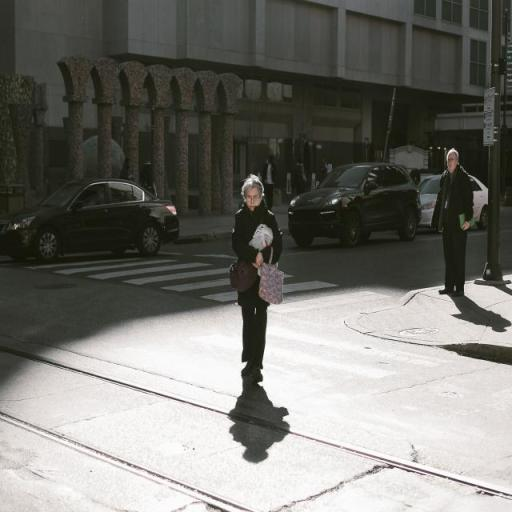Persona: (232, 173, 282, 383), (430, 145, 476, 306)
